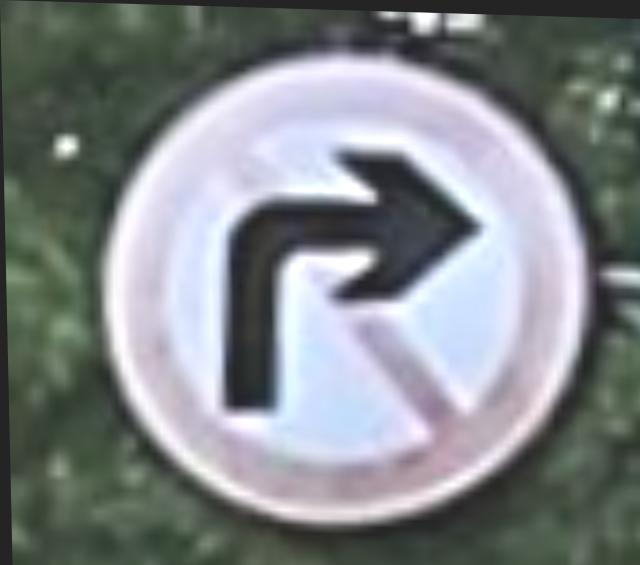not_turn_right: (92, 24, 604, 538)
